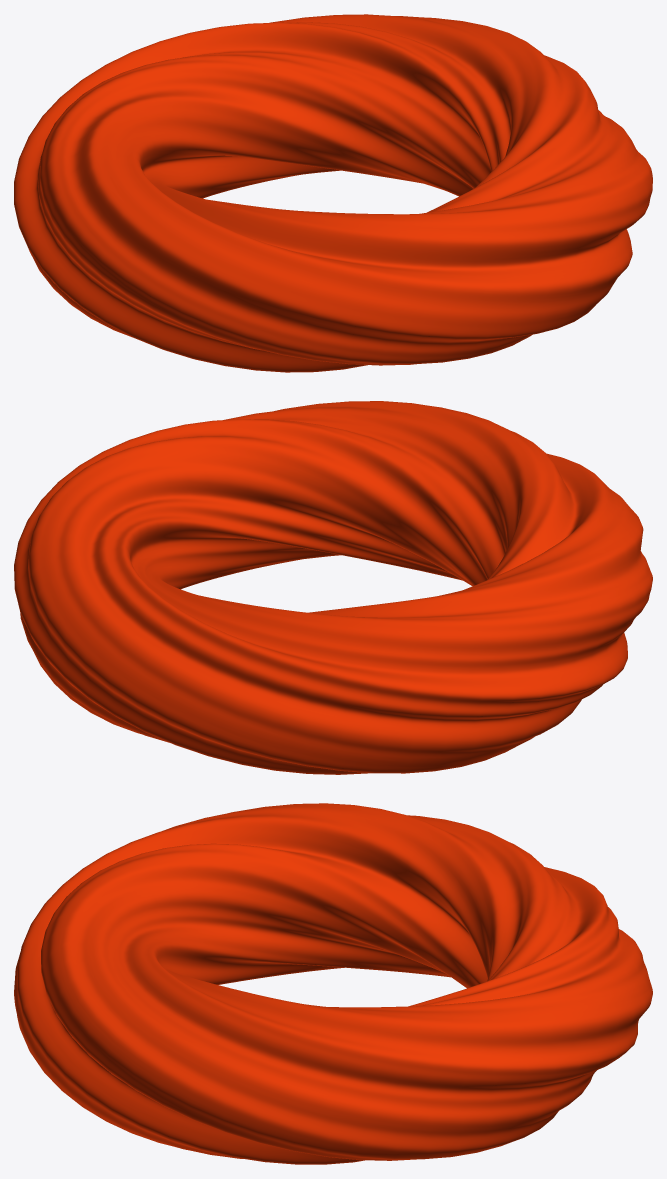
File: donut.glb
The picture shows the model from 3 angles, top to bottom: view 1: azimuth 30°, elevation 25°; view 2: azimuth 150°, elevation 25°; view 3: azimuth 270°, elevation 25°; orthographic projection. The views are drawn at different scales.
Parts seen in each view (by area): view 1: GeoNode-Twist_Shape_Loop_002; view 2: GeoNode-Twist_Shape_Loop_002; view 3: GeoNode-Twist_Shape_Loop_002.
Part boxes in pixels (bbox=[...]): GeoNode-Twist_Shape_Loop_002: bbox=[14, 14, 652, 372]; GeoNode-Twist_Shape_Loop_002: bbox=[14, 401, 652, 774]; GeoNode-Twist_Shape_Loop_002: bbox=[14, 803, 652, 1164].
Bounding box in the file's own units: 20.65 × 5.79 × 21.13.
